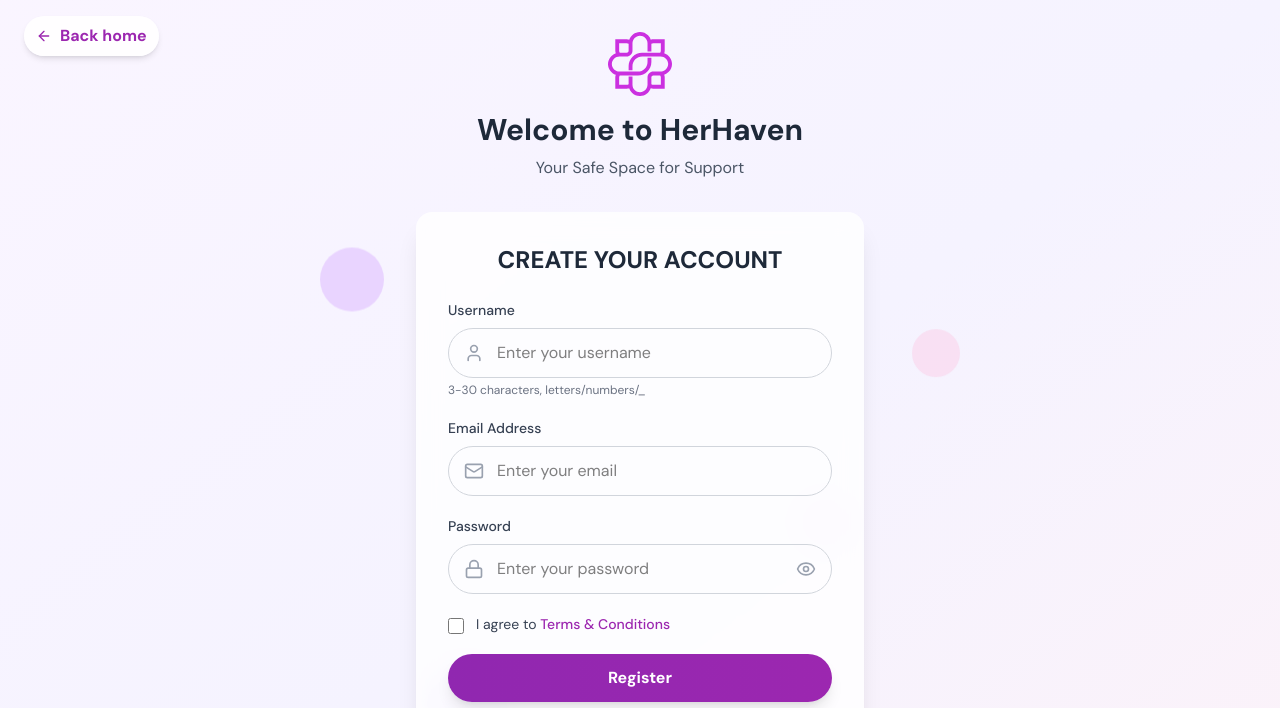
Signup Page › should show password requirements
This screenshot has width=1280, height=708.
Type "test" into the password field named "password" at (640, 569), box 448,544 -> 832,594
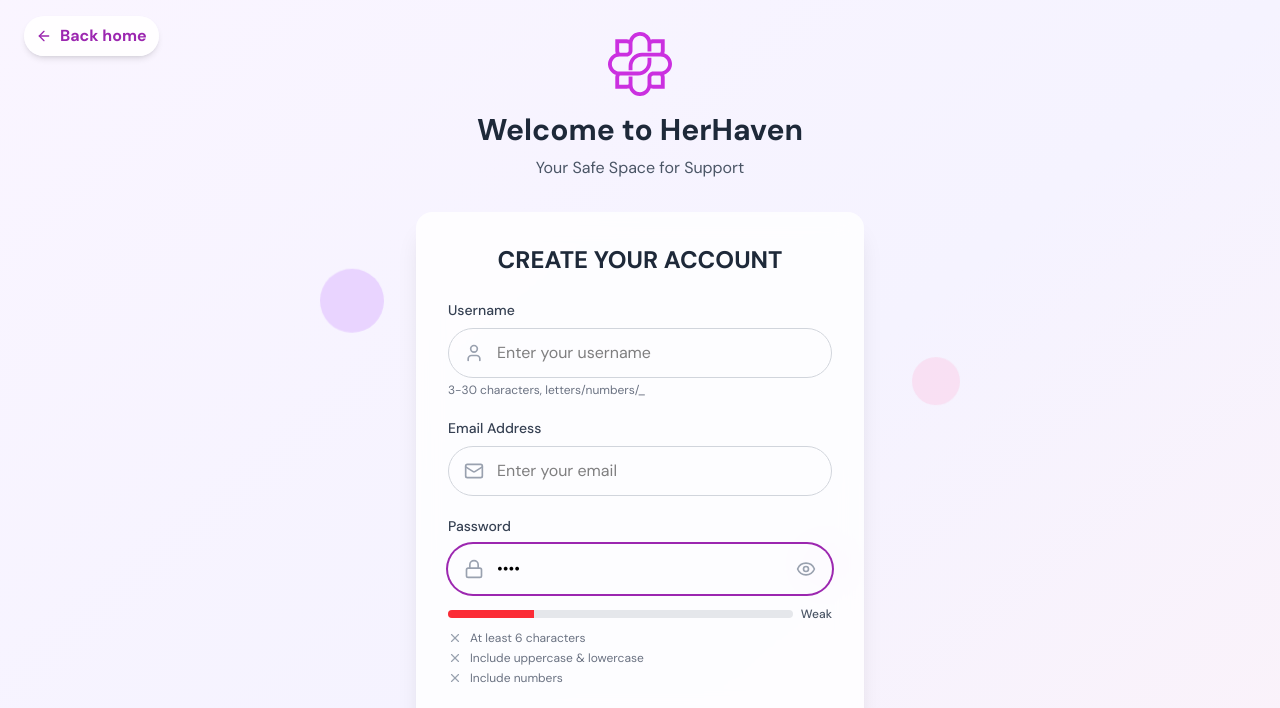
Expected: the text "At least 6 characters" is shown, 470,630 -> 586,646
Expected: the text "Include uppercase & lowercase" is shown, 470,650 -> 644,666
Expected: the text "Include numbers" is shown, 470,670 -> 563,686
